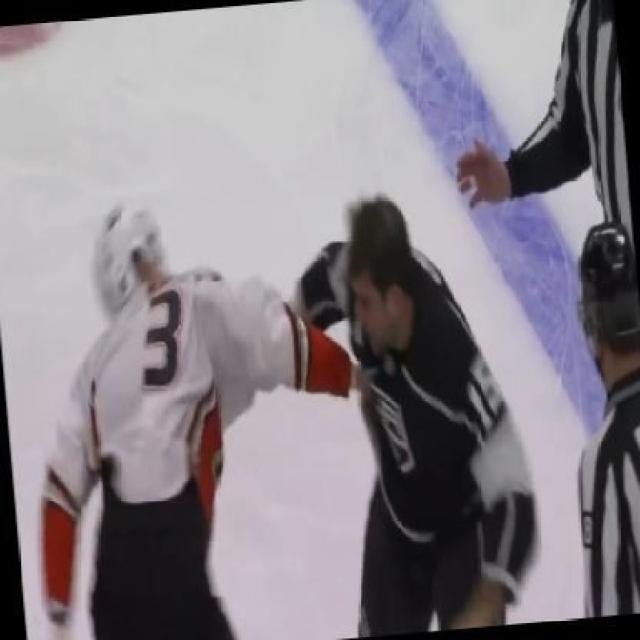fight: (30, 193, 538, 638)
